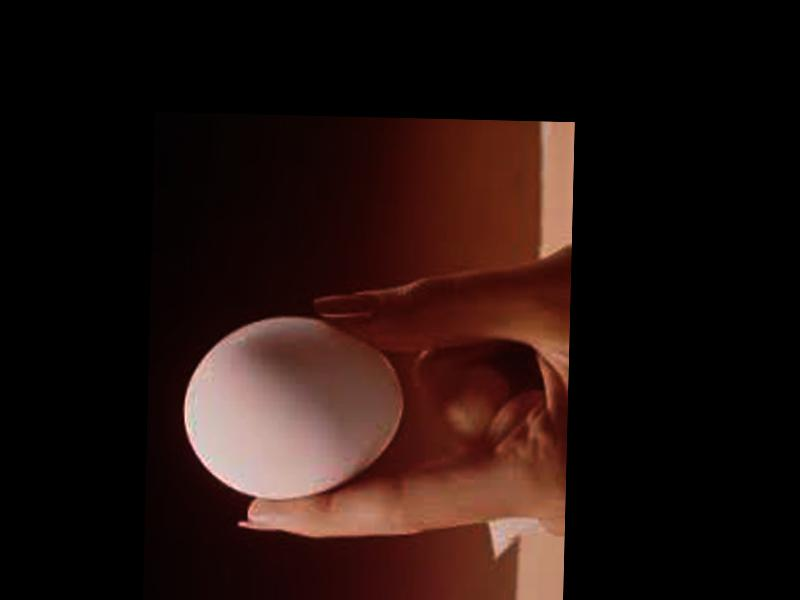Eggs: (182, 310, 408, 502)
